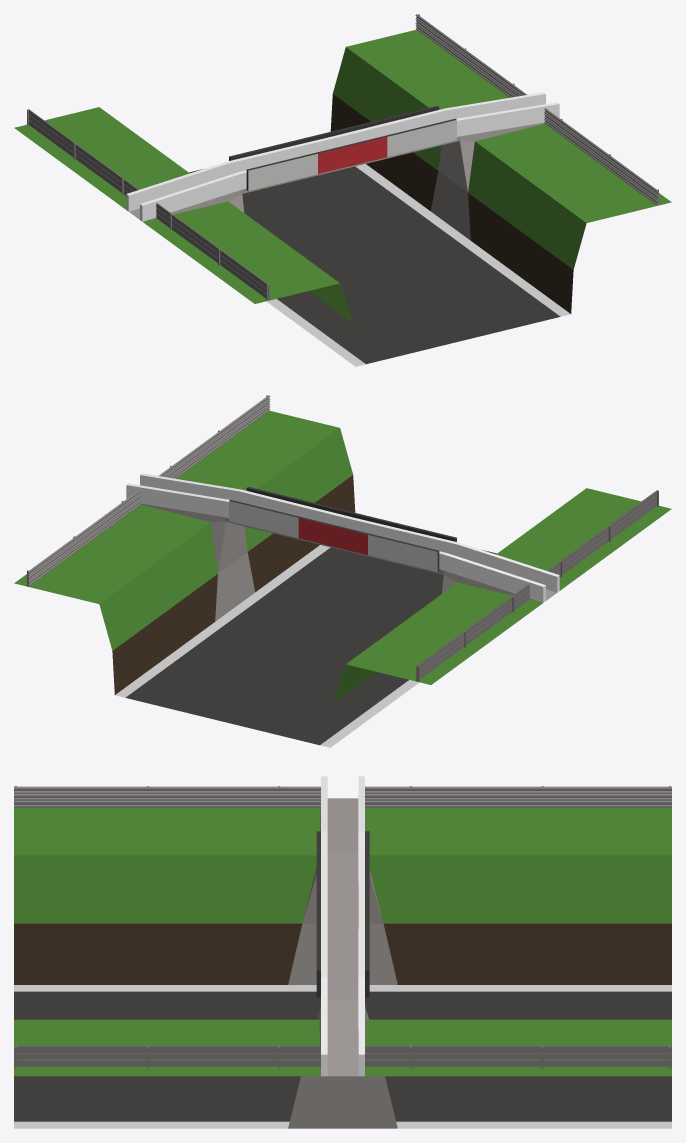
Rendered from tiles-nb_tile-race-track-cliff-overpass-nb.fbx.
The picture shows the model from 3 angles, top to bottom: view 1: azimuth 30°, elevation 25°; view 2: azimuth 150°, elevation 25°; view 3: azimuth 270°, elevation 25°; orthographic projection. The views are drawn at different scales.
Visible parts, largest first — view 1: tiles_nb_tile_race_track_cliff_overpass_nb; view 2: tiles_nb_tile_race_track_cliff_overpass_nb; view 3: tiles_nb_tile_race_track_cliff_overpass_nb.
Part boxes in pixels (x1,y1,x2,y2): tiles_nb_tile_race_track_cliff_overpass_nb: (14, 14, 671, 366); tiles_nb_tile_race_track_cliff_overpass_nb: (14, 395, 671, 747); tiles_nb_tile_race_track_cliff_overpass_nb: (14, 776, 671, 1128).
Bounding box in the file's own units: 200 × 52.31 × 200.
